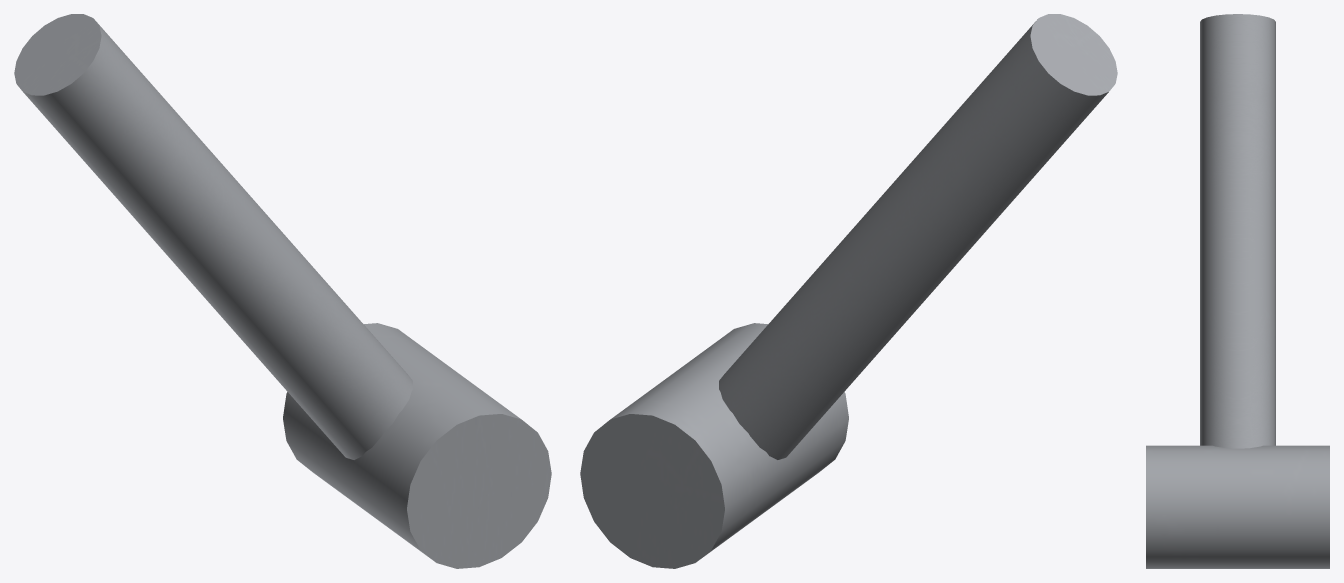
File: brazoInferior.obj
3 views of the same model, side by side, from view 1: azimuth 30°, elevation 25°; view 2: azimuth 150°, elevation 25°; view 3: azimuth 270°, elevation 25° (orthographic). The views are drawn at different scales.
Parts seen in each view (by area): view 1: pCylinder22; view 2: pCylinder22; view 3: pCylinder22.
Part boxes in pixels (x1,y1,x2,y2): pCylinder22: (14, 14, 551, 568); pCylinder22: (580, 14, 1117, 568); pCylinder22: (1146, 14, 1329, 568).
Size of the model in its own units: 0.6351 by 0.7572 by 0.2919.
